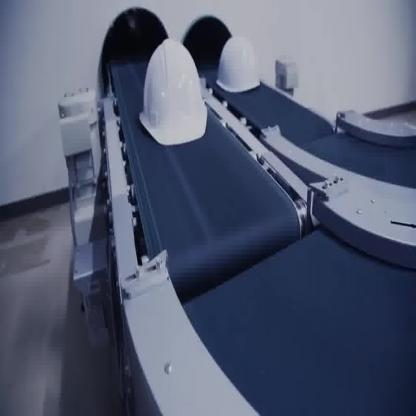helmet: (138, 36, 209, 148), (216, 31, 260, 95)
